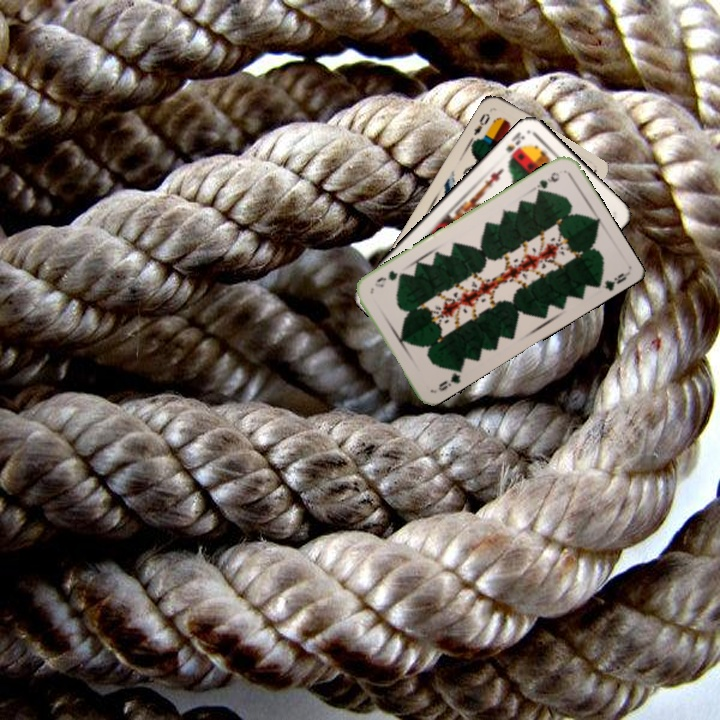EO: (469, 109, 493, 138)
G9: (434, 362, 465, 394), (528, 168, 562, 196)
SK: (501, 128, 528, 155)
